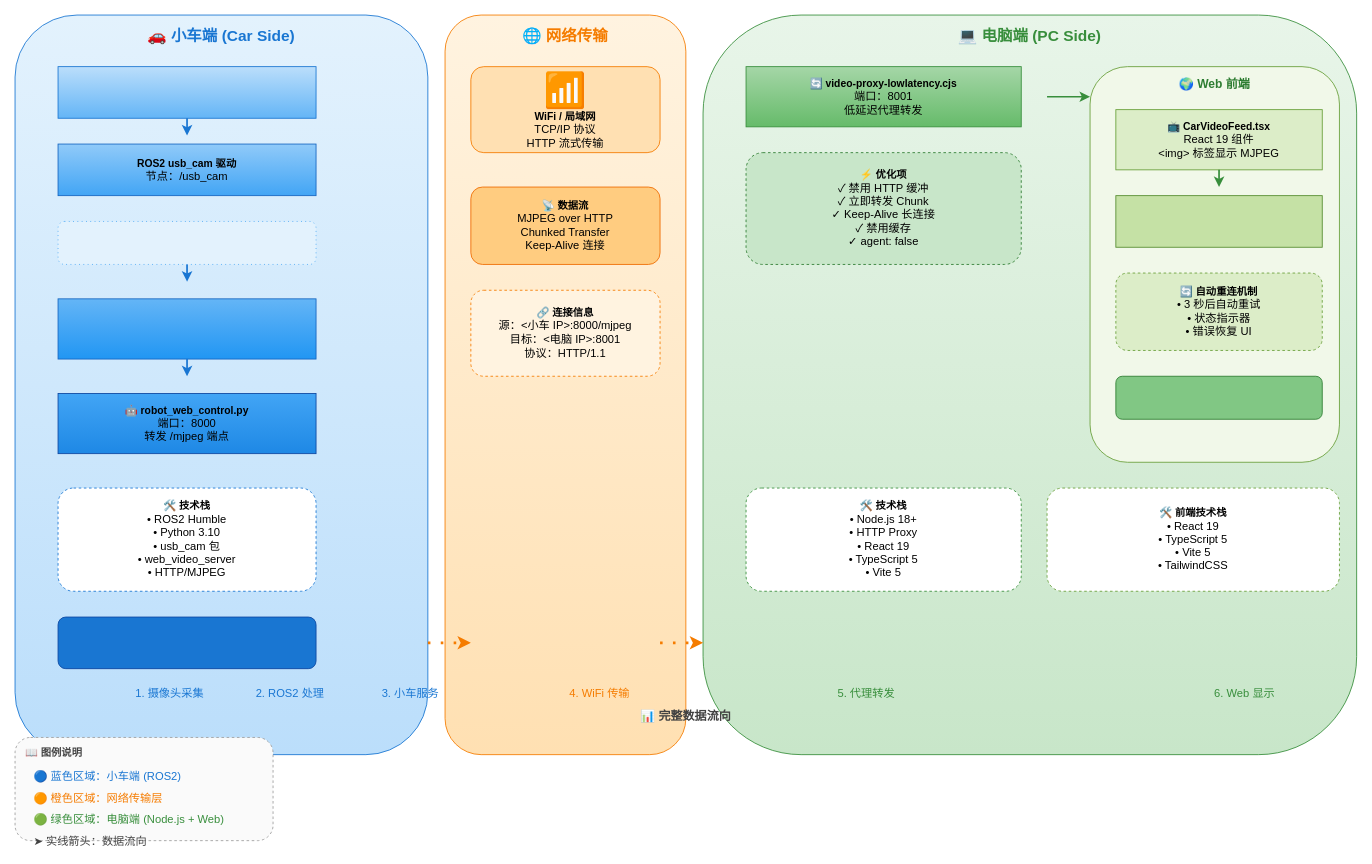
Some shapes in this 1372 by 864 pixel diagram are drawn without their labels. The box of each missing label's shape, as (x1, y1, x2, y2) in pixels:
🌐 web_video_server 端口：8080 MJPEG 流服务: (57, 298, 316, 359)
📤 输出 http://<小车 IP>:8000/mjpeg: (57, 616, 316, 669)
📬 /image_raw 话题 ROS2 Topic (sensor_msgs/Image): (57, 221, 316, 264)
📷 USB 摄像头 硬件设备: (57, 66, 316, 118)
🔗 默认地址 http://localhost:8001/: (1115, 375, 1322, 419)
🖼️ 视频显示区域 MJPEG 实时渲染: (1115, 195, 1322, 247)
